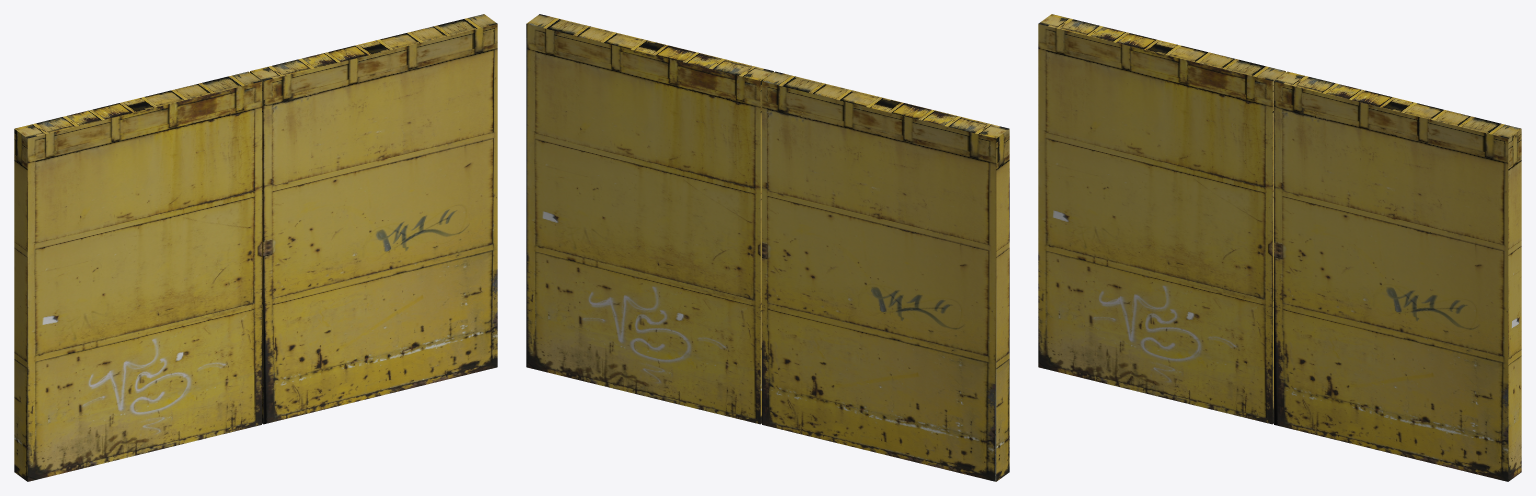
The model's file is garageDoorExported.fbx.
3 renders of one model, left to right at view 1: azimuth 30°, elevation 25°; view 2: azimuth 150°, elevation 25°; view 3: azimuth 330°, elevation 25°, orthographic.
Visible parts, largest first — view 1: rightGarageDoor, leftGarageDoor; view 2: rightGarageDoor, leftGarageDoor; view 3: leftGarageDoor, rightGarageDoor.
Boxes of the visible parts, x1=… form: rightGarageDoor: x1=14, y1=71, x2=261, y2=481; leftGarageDoor: x1=250, y1=14, x2=497, y2=424; rightGarageDoor: x1=762, y1=71, x2=1009, y2=481; leftGarageDoor: x1=526, y1=14, x2=773, y2=424; leftGarageDoor: x1=1274, y1=71, x2=1521, y2=481; rightGarageDoor: x1=1038, y1=14, x2=1285, y2=424.
Size of the model in its own units: 10.03 by 7 by 0.5.
